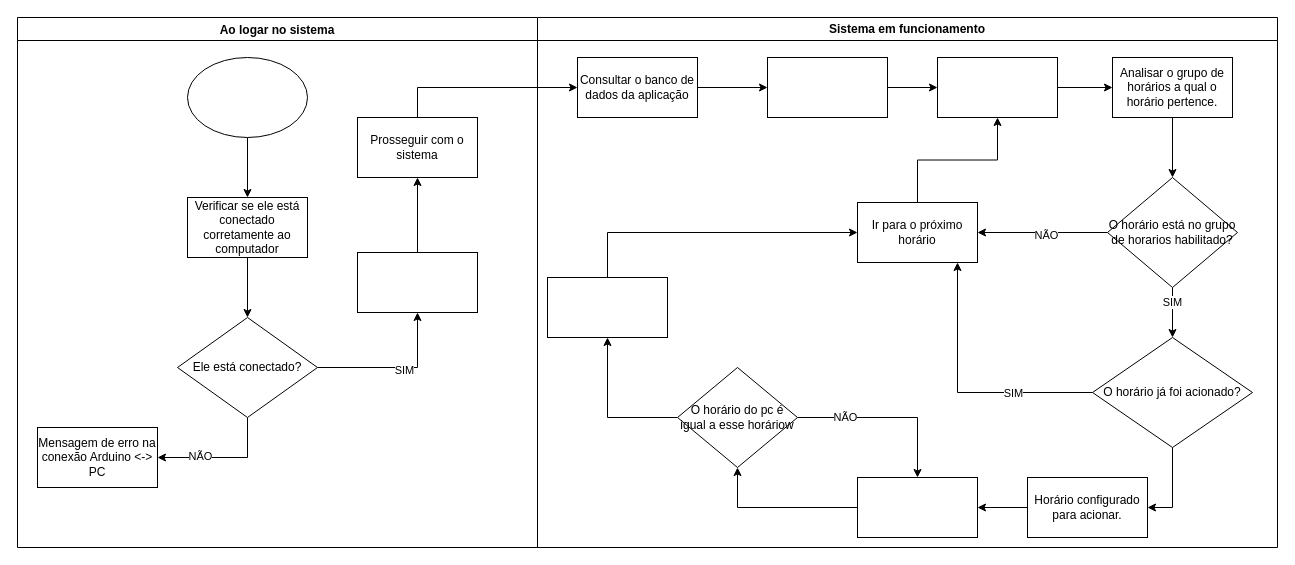
Image size: 1295x565. Some labels were removed from this diagram. Here are the shapes that lost their labels. From the top down, the centre of each, then its label:
the point at 247,97: Usuário loga no sistema
the point at 827,87: Consultar o horário pelo computador, usando a função Date()
the point at 997,87: Consultar horários
the point at 417,282: Realizar a comunicação com o arduino
the point at 607,307: Tocar o sinal
the point at 917,507: Esperar o horário tocar
